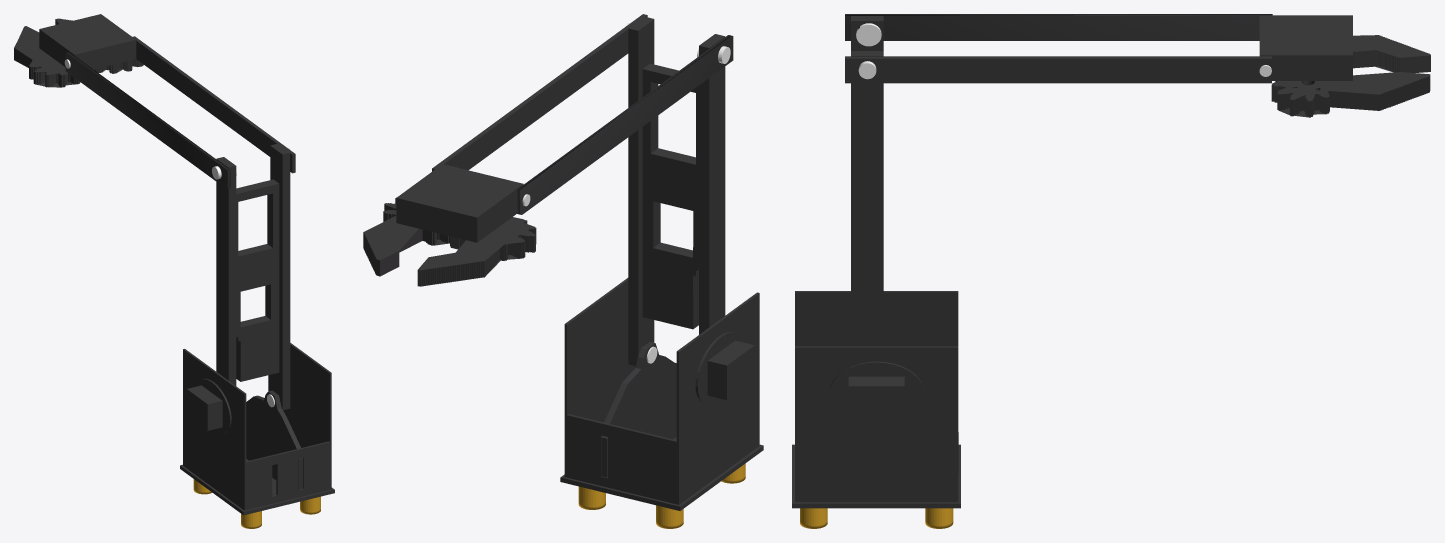
Rendered from Robotic Arm.fbx.
The picture shows the model from 3 angles, left to right: view 1: azimuth 30°, elevation 25°; view 2: azimuth 150°, elevation 25°; view 3: azimuth 270°, elevation 25°; orthographic projection. The views are drawn at different scales.
Visible parts, largest first — view 1: Rotator, Base Main Arm, Pincher Square, Top Left Long Joint, Top Right Long Joint, Pincher Left, Base.001, Pincher Right; view 2: Rotator, Base Main Arm, Pincher Square, Top Left Long Joint, Top Right Long Joint, Pincher Left, Base.001, Pincher Right; view 3: Rotator, Top Right Long Joint, Top Left Long Joint, Base Main Arm, Pincher Square, Pincher Right, Base.001, Pincher Left.
Boxes of the visible parts, x1,y1,x2,y2 form: Rotator: (183,343,331,510); Base Main Arm: (216,143,290,410); Pincher Square: (39,14,136,69); Top Left Long Joint: (65,52,230,188); Top Right Long Joint: (133,36,295,173); Pincher Left: (14,26,80,87); Base.001: (180,459,334,528); Pincher Right: (55,18,143,73); Rotator: (564,278,759,504); Base Main Arm: (628,16,725,365); Pincher Square: (396,164,523,242); Top Left Long Joint: (517,35,733,214); Top Right Long Joint: (432,14,647,171); Pincher Left: (417,217,536,286); Base.001: (560,437,763,528); Pincher Right: (363,197,449,276); Rotator: (795,291,958,502); Top Right Long Joint: (845,56,1271,83); Top Left Long Joint: (845,14,1272,40); Base Main Arm: (851,16,883,346); Pincher Square: (1259,15,1352,80); Pincher Right: (1271,72,1430,117); Base.001: (792,444,960,528); Pincher Left: (1353,35,1430,72).
Size of the model in its own units: 1356 by 3666 by 4581.
